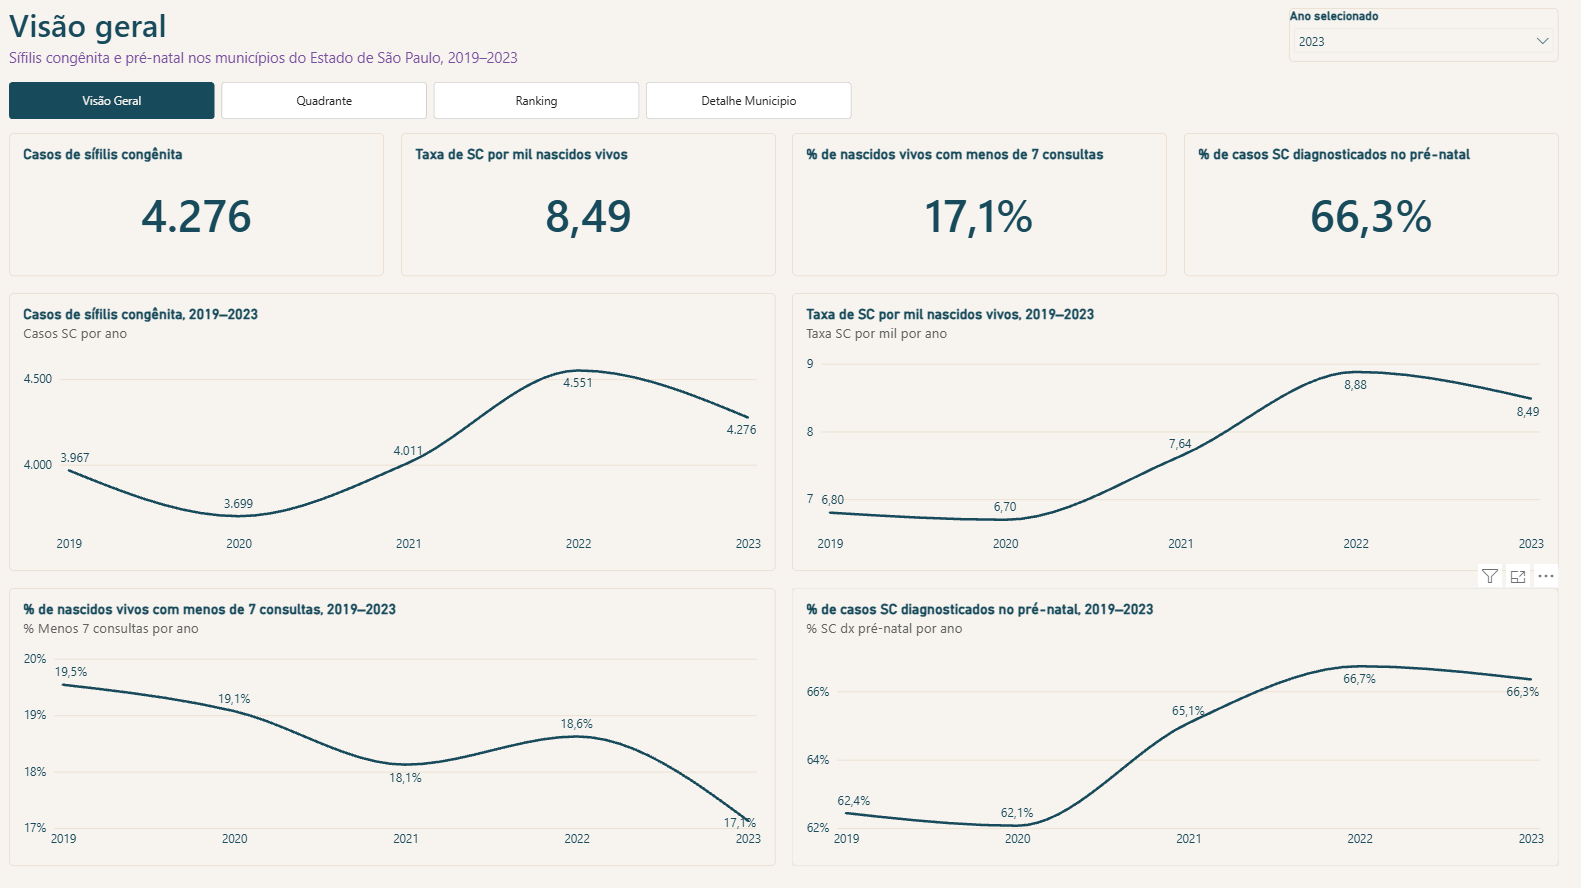

The dashboard page shown, as its layout file describes it:
{"tool":"powerbi","page":{"name":"Visão Geral","canvas":[1920,1080],"ordinal":0},"visuals":[{"type":"textbox","box":[40,70,1400,30],"z":0},{"type":"textbox","box":[40,18,1300,56],"z":1000},{"type":"pageNavigator","box":[40,112,1000,44],"z":2000},{"type":"slicer","title":"Ano selecionado","fields":{"Values":["tabela_final.ano"]},"box":[1560,24,320,64],"z":3000},{"type":"card","title":"Casos de sífilis congênita","fields":{"Values":["tabela_final.Casos SC"]},"box":[40,172,445,170],"z":4000},{"type":"card","title":"Taxa de SC por mil nascidos vivos","fields":{"Values":["tabela_final.Taxa Sifilis por Mil"]},"box":[505,172,445,170],"z":5000},{"type":"card","title":"% de nascidos vivos com menos de 7 consultas","fields":{"Values":["tabela_final.% Menos 7 Consultas"]},"box":[970,172,445,170],"z":6000},{"type":"card","title":"% de casos SC diagnosticados no pré-natal","fields":{"Values":["tabela_final.% SC Dx Pré-natal"]},"box":[1435,172,445,170],"z":7000},{"type":"lineChart","title":"Casos de sífilis congênita, 2019–2023","fields":{"Category":["tabela_final.ano"],"Y":["tabela_final.Casos SC"]},"box":[40,362,910,330],"z":8000},{"type":"lineChart","title":"Taxa de SC por mil nascidos vivos, 2019–2023","fields":{"Category":["tabela_final.ano"],"Y":["tabela_final.Taxa Sifilis por Mil"]},"box":[970,362,910,330],"z":9000},{"type":"lineChart","title":"% de nascidos vivos com menos de 7 consultas, 2019–2023","fields":{"Category":["tabela_final.ano"],"Y":["tabela_final.% Menos 7 Consultas"]},"box":[40,712,910,330],"z":10000},{"type":"lineChart","title":"% de casos SC diagnosticados no pré-natal, 2019–2023","fields":{"Category":["tabela_final.ano"],"Y":["tabela_final.% SC Dx Pré-natal"]},"box":[970,712,910,330],"z":11000}]}

Visuals, with their boxes in screenshot pixels (x1, y1, x2, y2), scaled from the page's 1920x1080 canvas onto the 1581x888 screenshot:
textbox: [33, 58, 1186, 82]
textbox: [33, 15, 1103, 61]
pageNavigator: [33, 92, 856, 128]
"Ano selecionado" slicer: [1285, 20, 1548, 72]
"Casos de sífilis congênita" card: [33, 141, 399, 281]
"Taxa de SC por mil nascidos vivos" card: [416, 141, 782, 281]
"% de nascidos vivos com menos de 7 consultas" card: [799, 141, 1165, 281]
"% de casos SC diagnosticados no pré-natal" card: [1182, 141, 1548, 281]
"Casos de sífilis congênita, 2019–2023" lineChart: [33, 298, 782, 569]
"Taxa de SC por mil nascidos vivos, 2019–2023" lineChart: [799, 298, 1548, 569]
"% de nascidos vivos com menos de 7 consultas, 2019–2023" lineChart: [33, 585, 782, 857]
"% de casos SC diagnosticados no pré-natal, 2019–2023" lineChart: [799, 585, 1548, 857]
